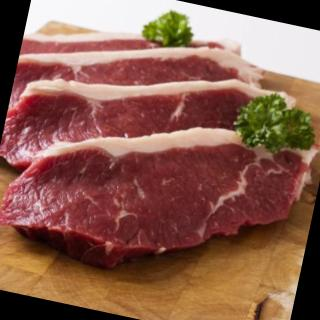Daging Sapi: (1, 89, 318, 290), (1, 35, 280, 215)
